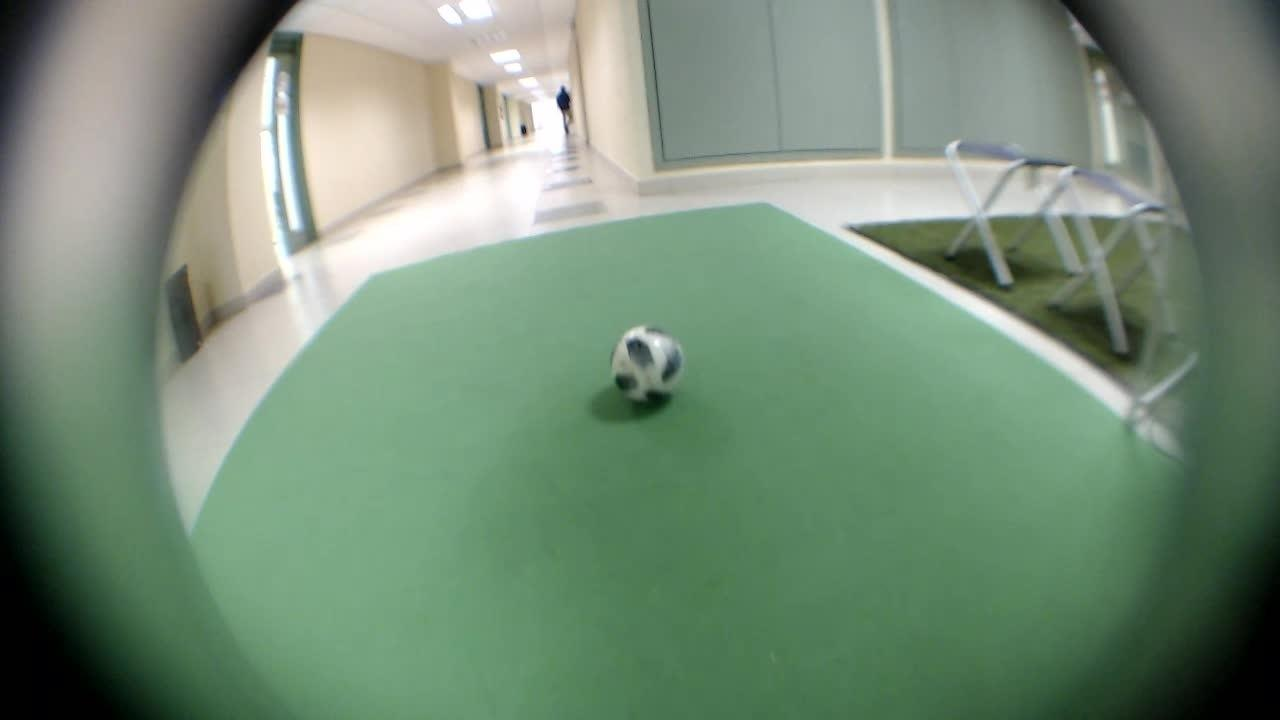ball: (598, 306, 698, 414)
